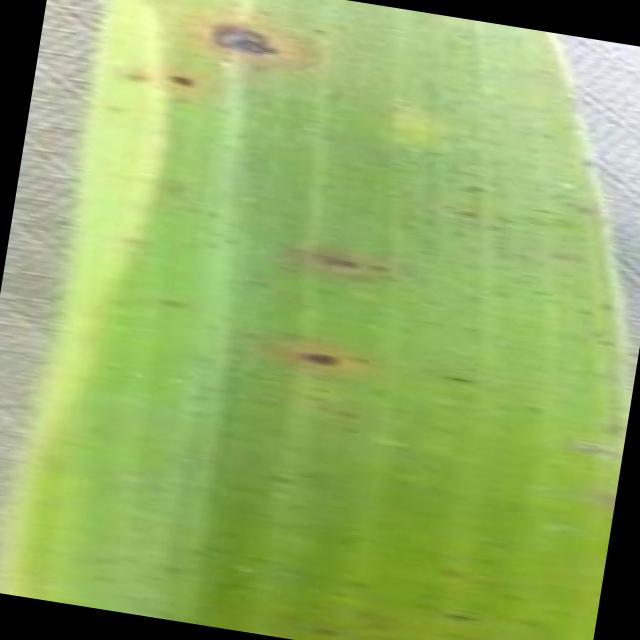Rice_Brownspot: (198, 6, 284, 69), (290, 232, 367, 286), (280, 331, 349, 378), (558, 430, 623, 462), (313, 396, 367, 426), (112, 222, 162, 254), (578, 474, 616, 516), (349, 608, 401, 637), (158, 62, 205, 94), (424, 553, 471, 585), (436, 598, 486, 628), (115, 59, 158, 93), (228, 267, 276, 296), (208, 570, 255, 599), (152, 555, 202, 581), (434, 362, 476, 390), (154, 169, 194, 198), (254, 464, 298, 488), (518, 196, 558, 221), (302, 618, 345, 640), (496, 581, 530, 608), (544, 242, 584, 264), (151, 290, 190, 312), (511, 610, 550, 632), (452, 176, 487, 200), (570, 148, 602, 174), (358, 255, 392, 279), (590, 413, 626, 435), (196, 236, 227, 259), (308, 172, 339, 195), (362, 380, 394, 402), (568, 300, 599, 322), (338, 572, 372, 592), (100, 98, 134, 118), (339, 347, 371, 367), (518, 395, 548, 416), (570, 200, 600, 221), (211, 134, 238, 156), (488, 284, 518, 303), (588, 332, 616, 352), (451, 203, 478, 222), (594, 294, 620, 313), (444, 224, 468, 244), (396, 218, 424, 235), (306, 20, 331, 38), (198, 204, 221, 222), (525, 284, 554, 298), (492, 210, 516, 226), (439, 196, 458, 214), (538, 128, 556, 141)
